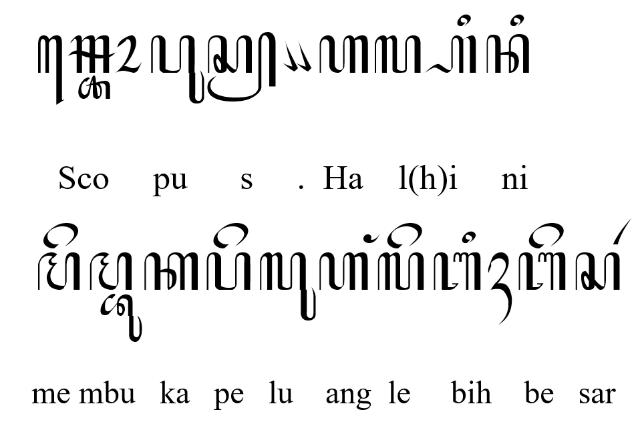-s: (208, 32, 276, 102)
S: (68, 34, 116, 74)
_bu: (100, 293, 142, 343)
_c: (78, 74, 110, 100)
_h1: (486, 252, 512, 324)
_r1: (612, 218, 632, 244)
b: (433, 251, 483, 290), (518, 252, 566, 292)
e: (386, 221, 424, 249), (527, 221, 565, 249), (42, 222, 78, 248), (213, 223, 249, 249)
e1: (37, 34, 65, 106)
h: (318, 252, 369, 292), (319, 34, 369, 74)
i: (461, 230, 477, 244), (456, 14, 472, 26), (510, 14, 524, 26)
k: (142, 251, 198, 290)
kom: (282, 41, 298, 72), (296, 41, 312, 72)
l: (424, 34, 476, 74), (376, 251, 426, 291), (374, 36, 422, 74)
lu: (260, 252, 316, 320)
m: (88, 251, 134, 290), (36, 251, 80, 290)
n: (486, 34, 530, 74)
ng: (362, 232, 380, 244)
o: (115, 34, 143, 74)
p: (206, 250, 250, 292)
pu: (150, 34, 204, 104)
s: (576, 251, 620, 291)
